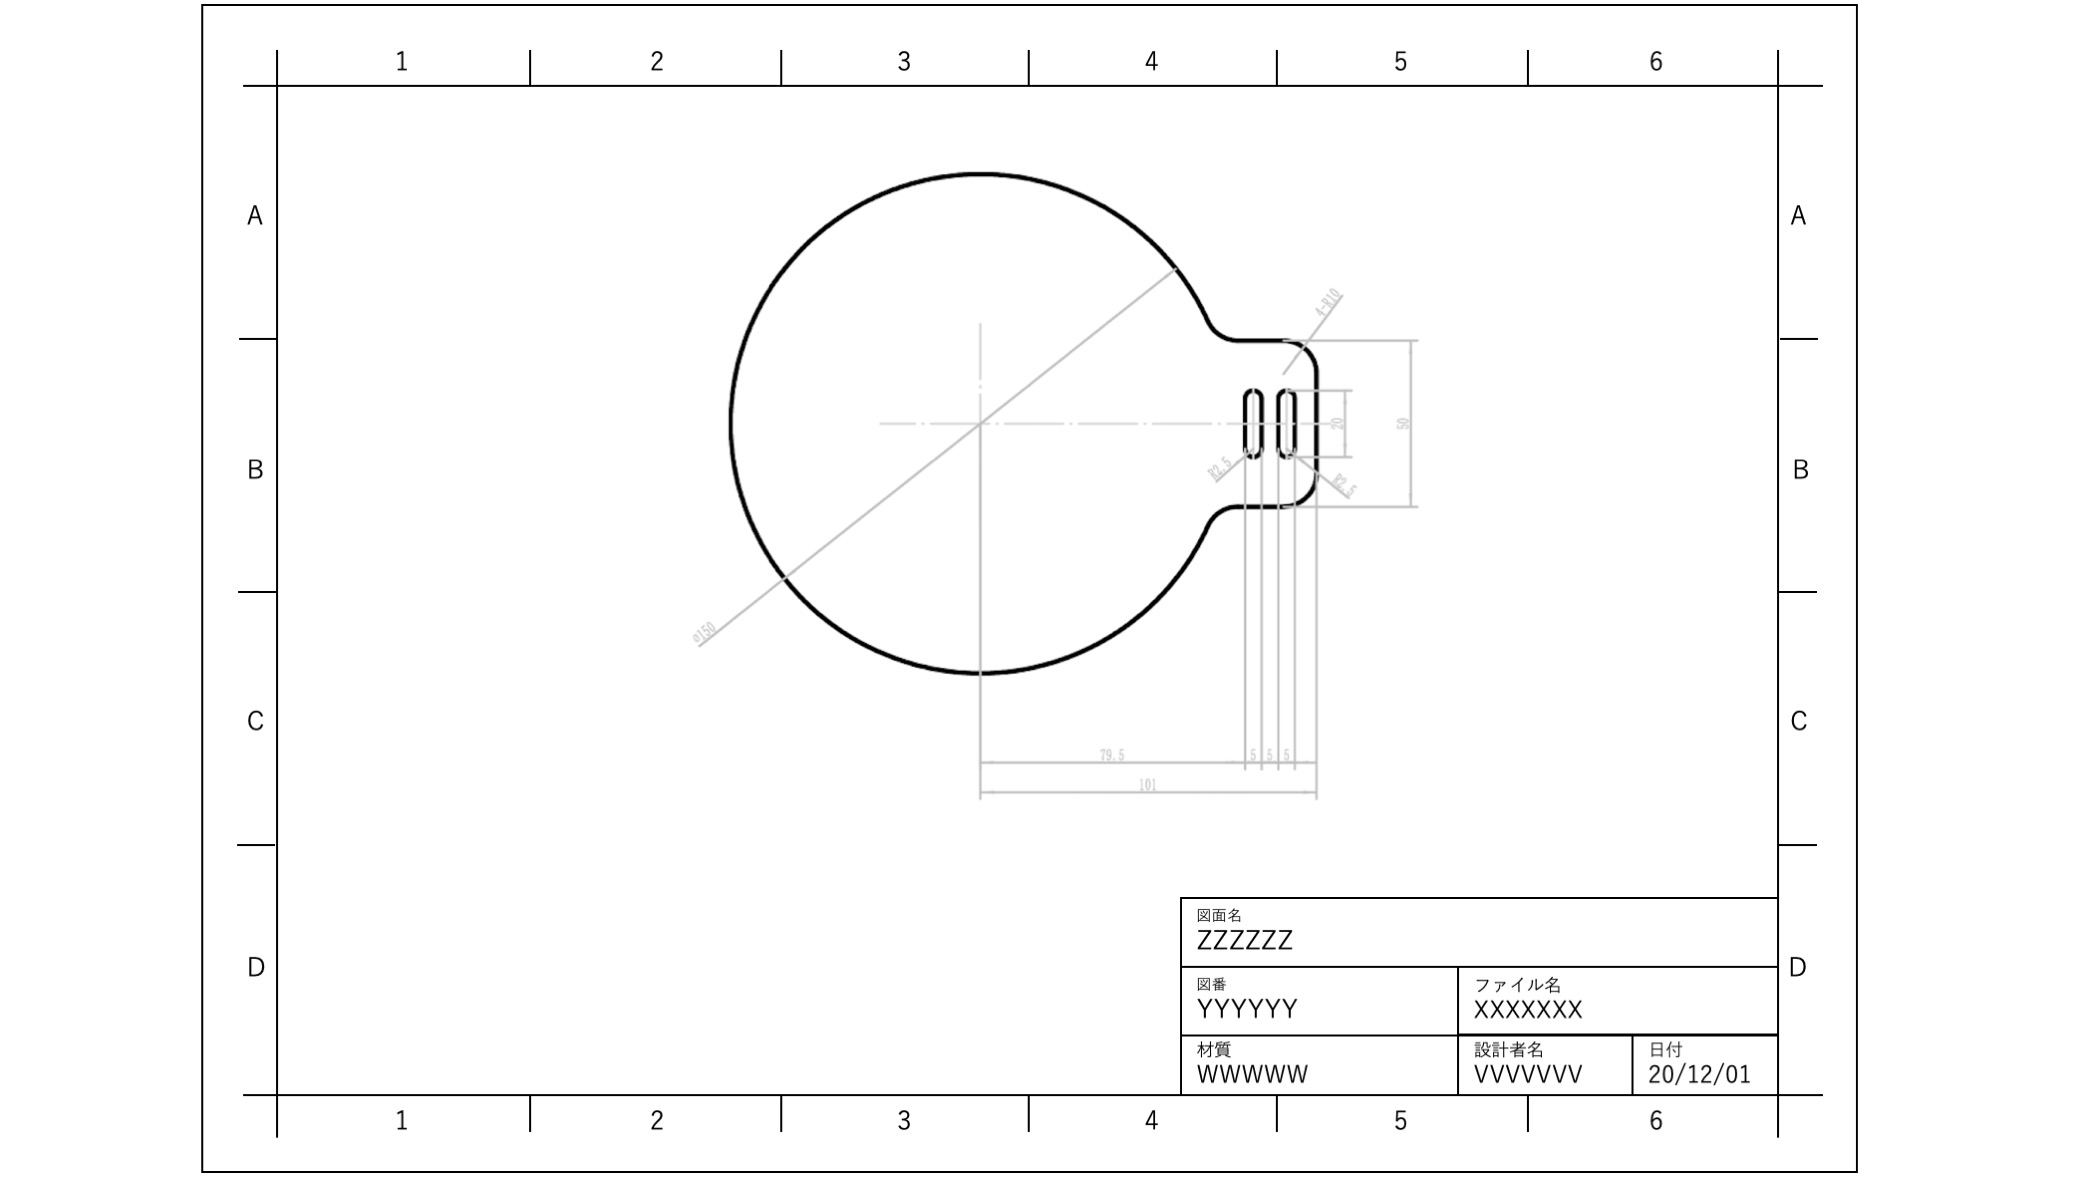round_rectangle: (1237, 386, 1266, 461), (1274, 385, 1302, 457)
